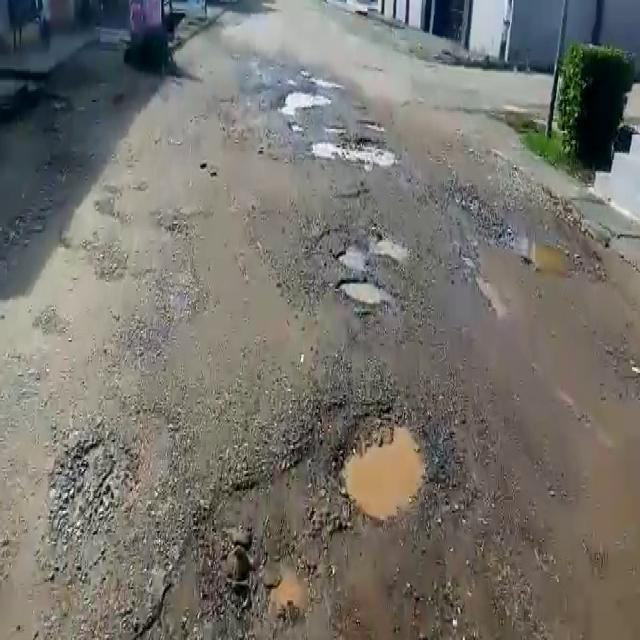pothole: (334, 408, 431, 523), (311, 130, 402, 169), (334, 233, 409, 268), (518, 237, 579, 277), (335, 273, 392, 305), (276, 88, 332, 112)
